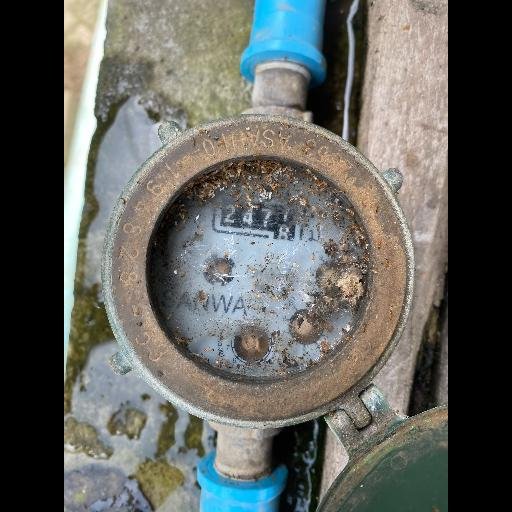2: (220, 198, 242, 228)
4: (239, 201, 261, 230)
7: (274, 204, 298, 242), (258, 202, 278, 232)
border_water_meter_number: (212, 191, 309, 246)
